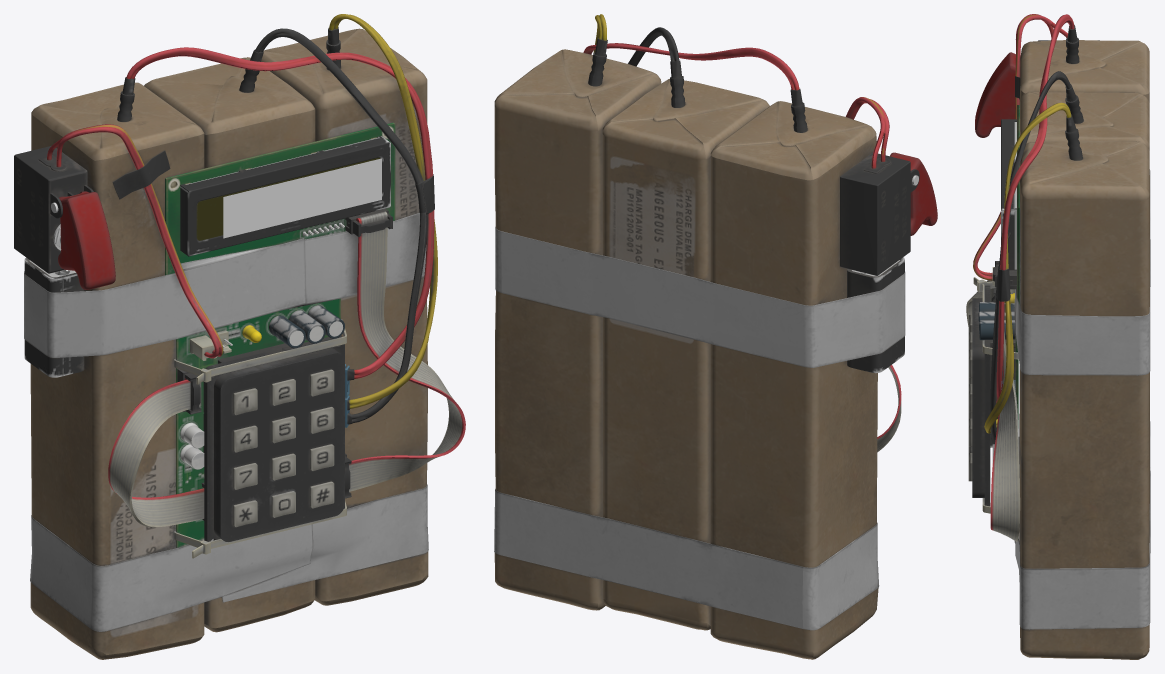
Rendered from c4_bomb.glb.
The picture shows the model from 3 angles, left to right: view 1: azimuth 30°, elevation 25°; view 2: azimuth 150°, elevation 25°; view 3: azimuth 270°, elevation 25°; orthographic projection. The views are drawn at different scales.
Visible parts, largest first — view 1: body_hd_weapon_c4, controlpanel0_c4_panorama_control_panel_c4_panorama_control_; view 2: body_hd_weapon_c4; view 3: body_hd_weapon_c4.
Part boxes in pixels (x1=…): body_hd_weapon_c4: x1=14, y1=14, x2=465, y2=659; controlpanel0_c4_panorama_control_panel_c4_panorama_control_: x1=223, y1=158, x2=381, y2=238; body_hd_weapon_c4: x1=494, y1=14, x2=937, y2=659; body_hd_weapon_c4: x1=966, y1=14, x2=1150, y2=659.
Size of the model in its own units: 0.1893 by 0.2678 by 0.0832.
2 materials, 1 textured.
